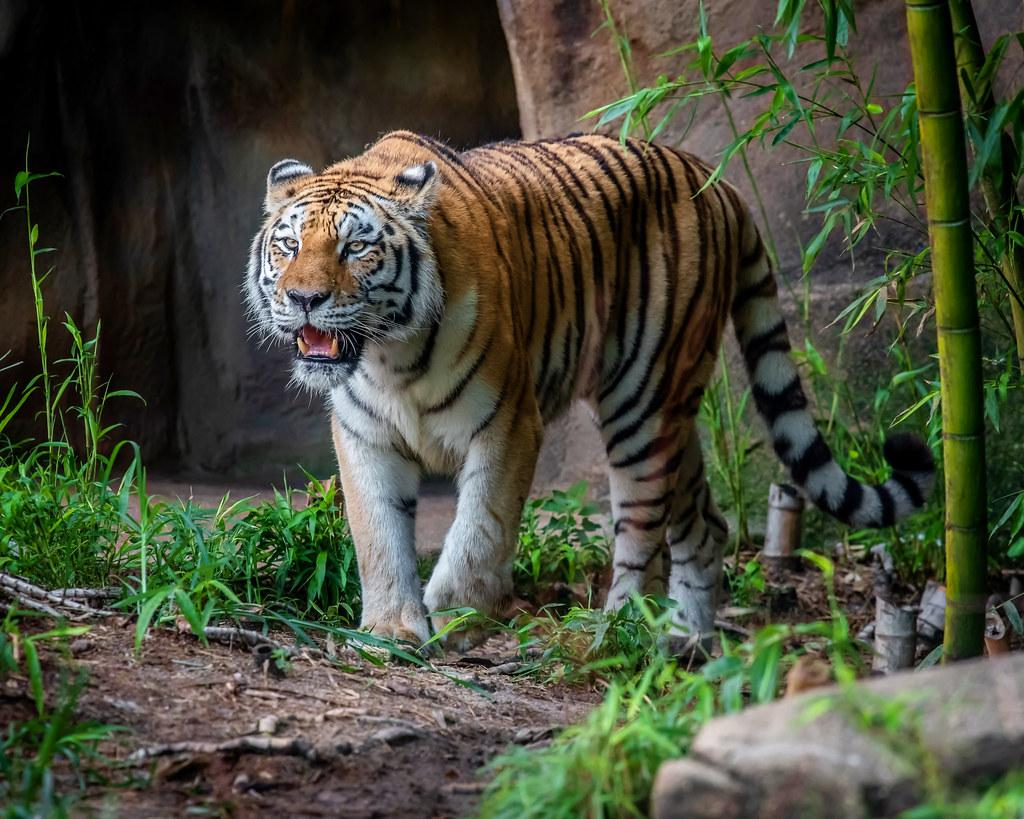tiger: (239, 127, 937, 665)
